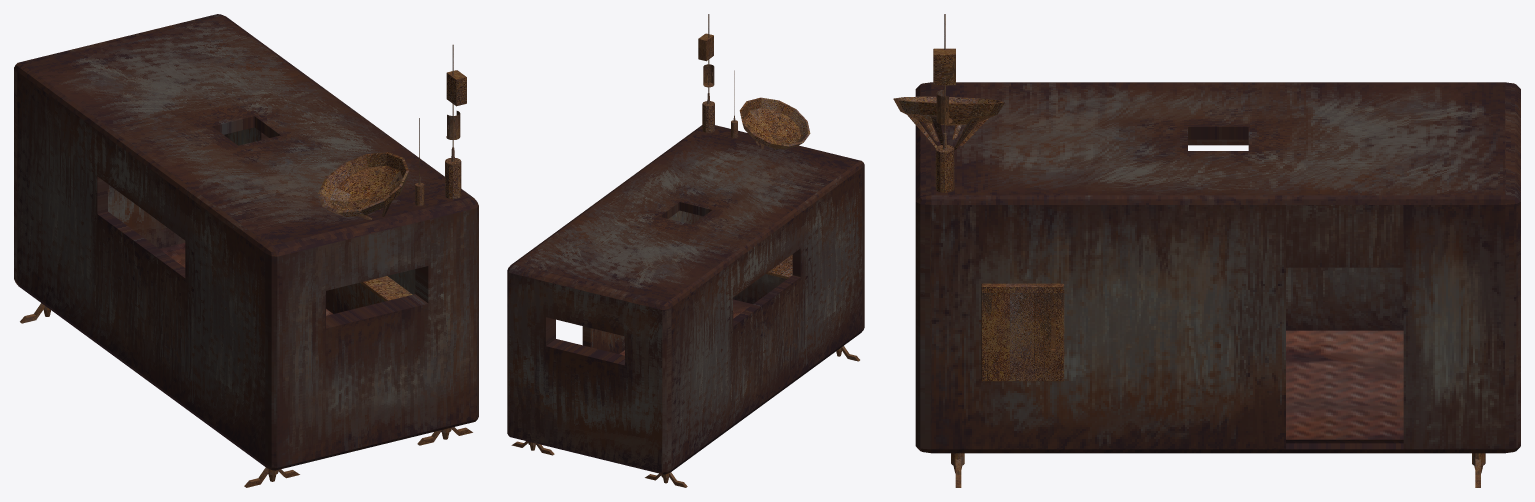
The model's file is rusted_trailer1.glb.
3 renders of one model, left to right at view 1: azimuth 30°, elevation 25°; view 2: azimuth 150°, elevation 25°; view 3: azimuth 270°, elevation 25°, orthographic. The views are drawn at different scales.
Parts seen in each view (by area): view 1: Cube, Sphere.001, Cylinder.001, Cube.003, Cube.006, Cube.005; view 2: Cube, Sphere.001, Cylinder.001, Cube.003, Cube.005; view 3: Cube, Cube.004, Sphere.001, Cylinder.001, Cube.005.
Part boxes in pixels (x1,y1,x2,y2): Cube: (14,14,478,470); Sphere.001: (317,152,408,219); Cylinder.001: (445,44,461,199); Cube.003: (20,303,472,487); Cube.006: (360,276,412,301); Cube.005: (446,70,466,106); Cube: (507,125,864,474); Sphere.001: (739,97,810,149); Cylinder.001: (702,14,714,132); Cube.003: (511,346,859,487); Cube.005: (698,33,713,61); Cube: (915,82,1520,453); Cube.004: (981,283,1064,381); Sphere.001: (893,96,1004,150); Cylinder.001: (935,14,954,192); Cube.005: (933,48,955,85).
Bounding box in the file's own units: 5.39 × 9.02 × 11.17.
4 materials, 4 textured.
